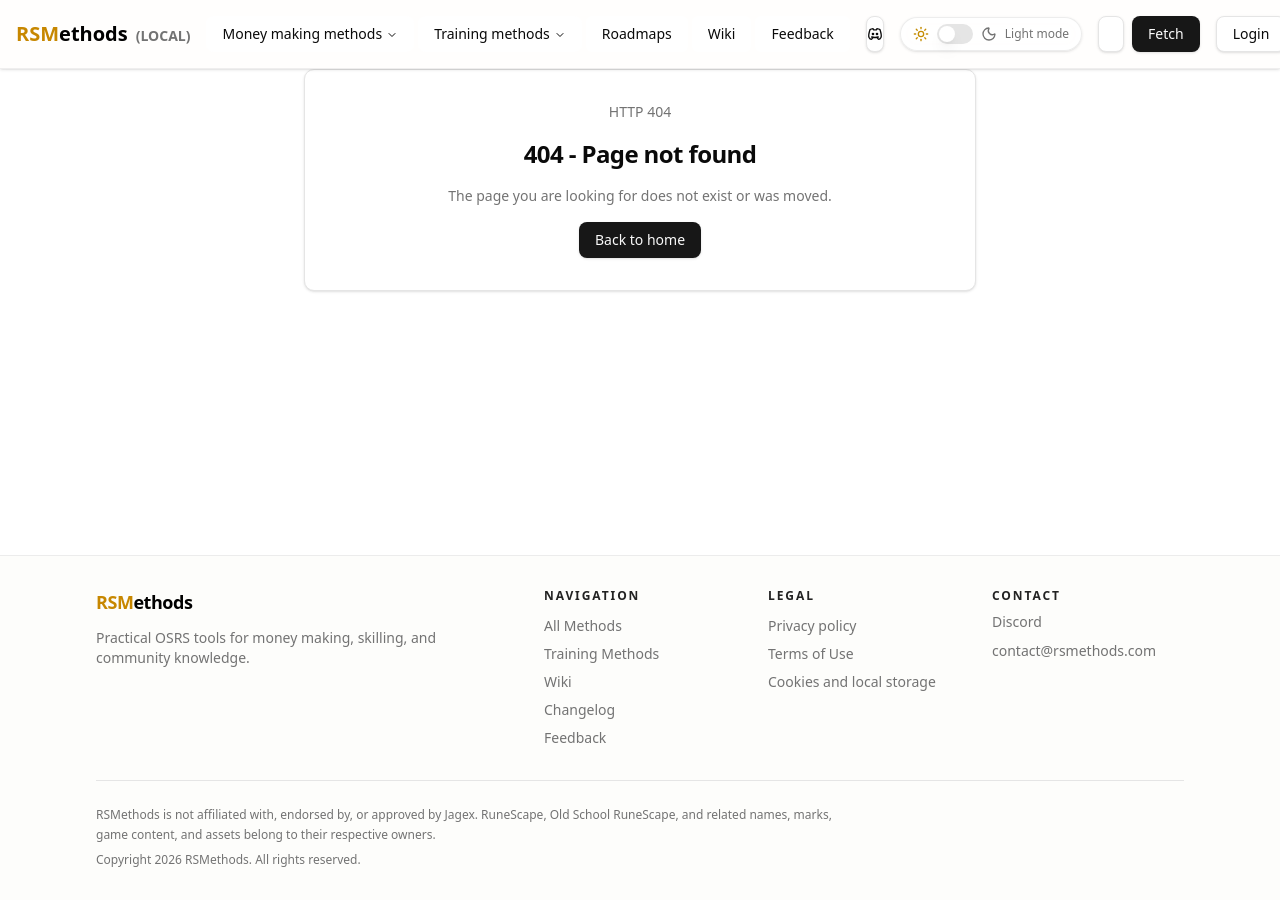
it: critical flow: unknown routes › renders the 404 page for unknown routes
The width and height of the screenshot is (1280, 900).
Check: the heading "404 - Page not found" is shown, box [524, 138, 756, 170]
Check: the text "The page you are looking for does not exist or was moved." is shown, box [448, 186, 832, 206]
Click the link with aria-label "RSMethods home" at (103, 34), box [16, 20, 190, 48]
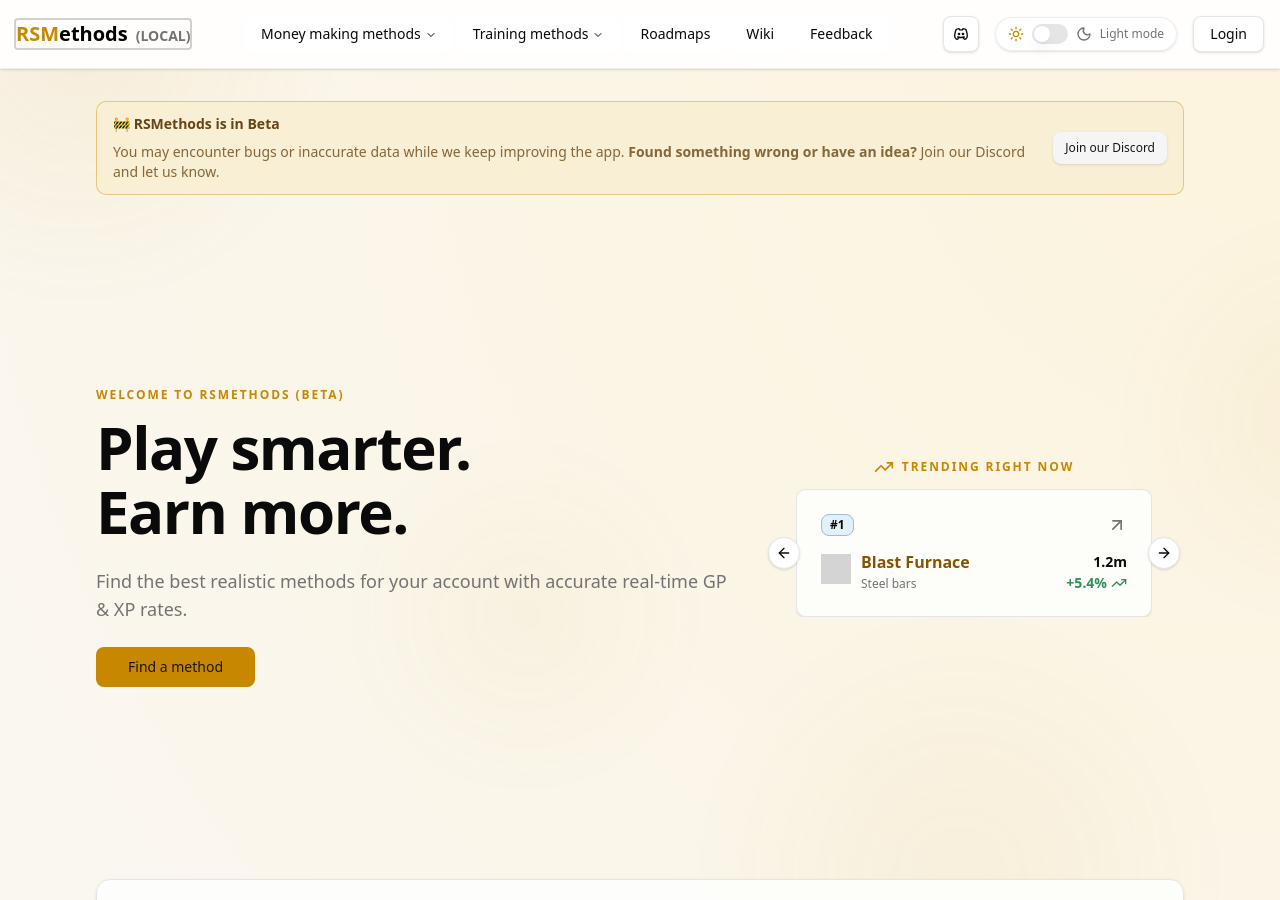
Check: the heading "Play smarter.Earn more." is shown, box [96, 406, 470, 552]
